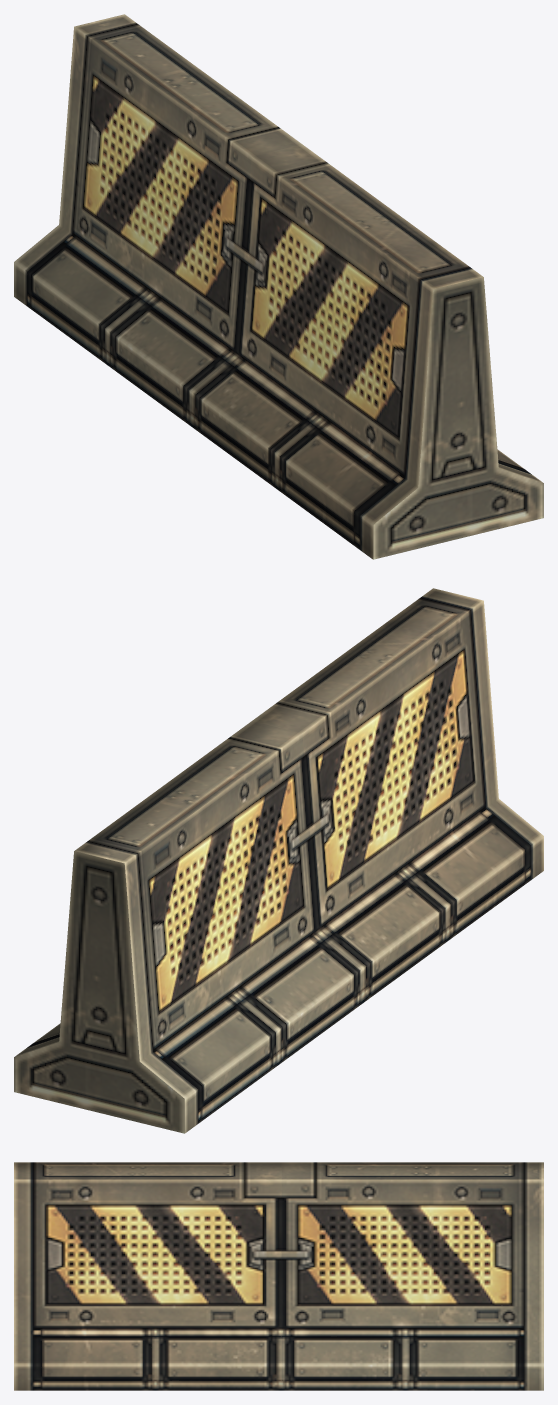
Rendered from mprw_cover_long.FBX.
3 views of the same model, one above another, from view 1: azimuth 30°, elevation 25°; view 2: azimuth 150°, elevation 25°; view 3: azimuth 270°, elevation 25° (orthographic). The views are drawn at different scales.
Parts seen in each view (by area): view 1: mprw_cover_long; view 2: mprw_cover_long; view 3: mprw_cover_long.
Boxes of the visible parts, x1,y1,x2,y2 form: mprw_cover_long: (14,14,543,559); mprw_cover_long: (14,588,543,1133); mprw_cover_long: (14,1162,543,1390).
Bounding box in the file's own units: 90.93 × 130 × 331.
1 material, 1 textured.
